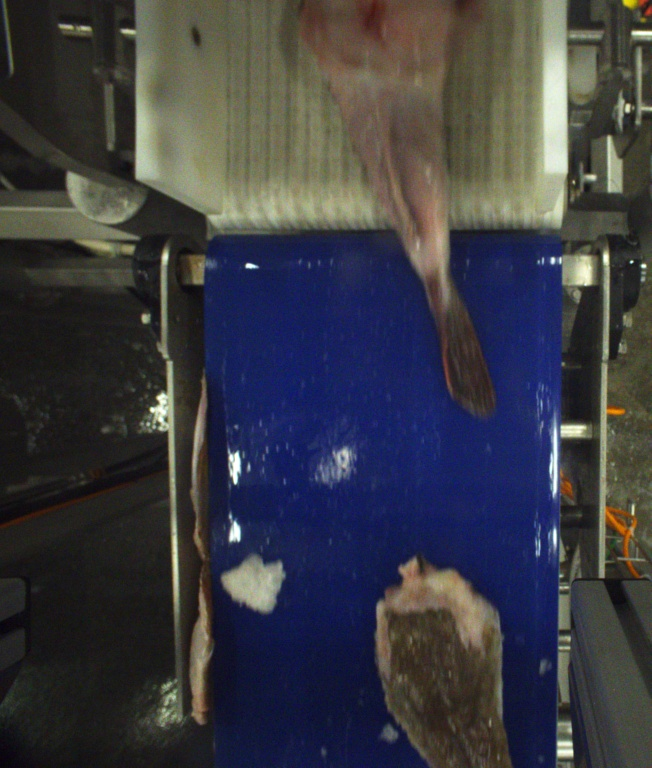ANF: (294, 0, 497, 415)
